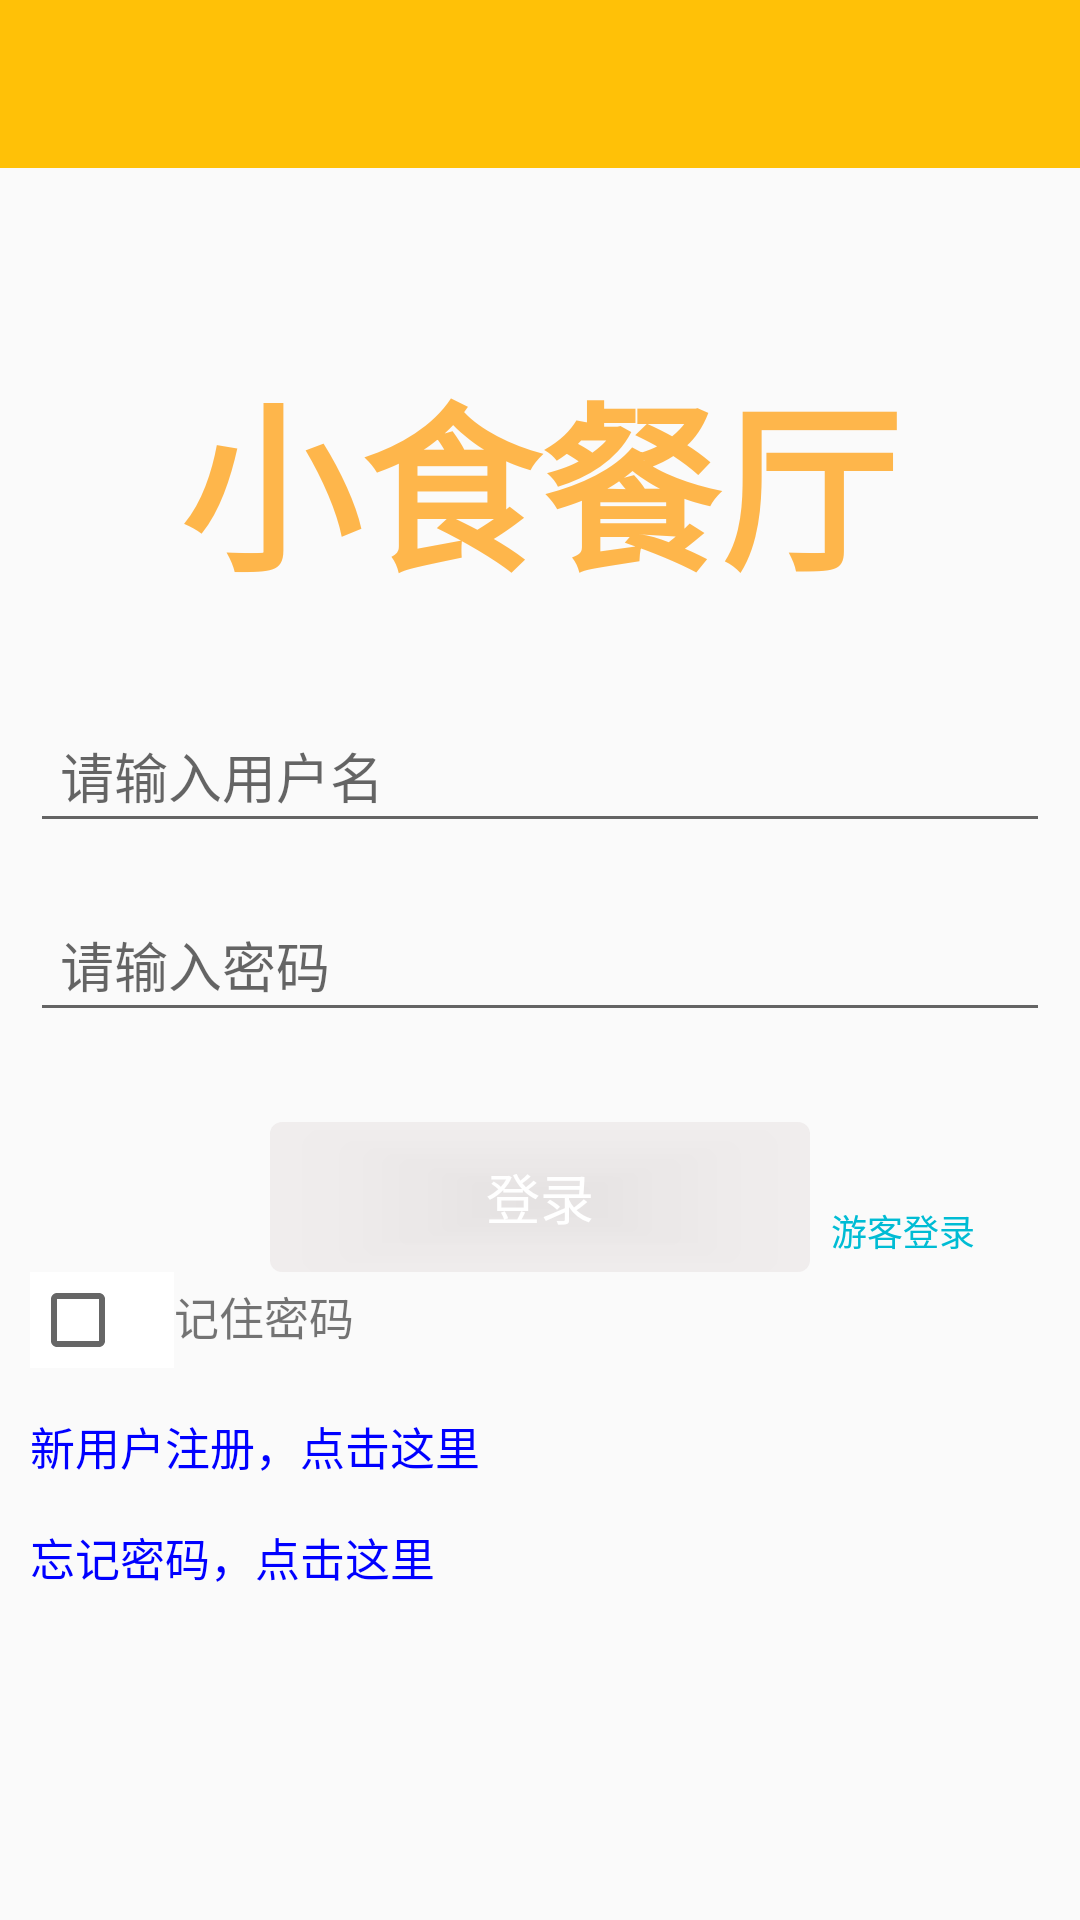

Screen size 1080x1920. Icon name, then its box in pixels as bbox=[x1, y1, x2, y2]:
check choose: bbox=[51, 1293, 105, 1347]
